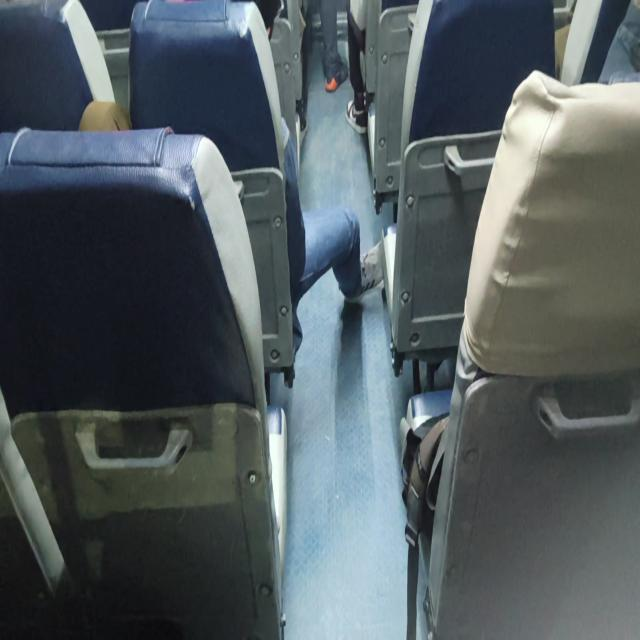person: (78, 0, 384, 380), (280, 114, 384, 358), (296, 0, 349, 133), (345, 0, 382, 134), (318, 0, 349, 92)
